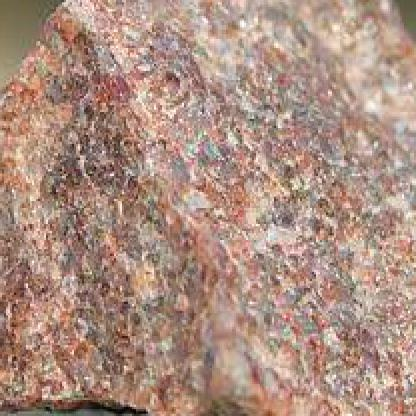Metamorphic_Quartize: (2, 0, 415, 414)
